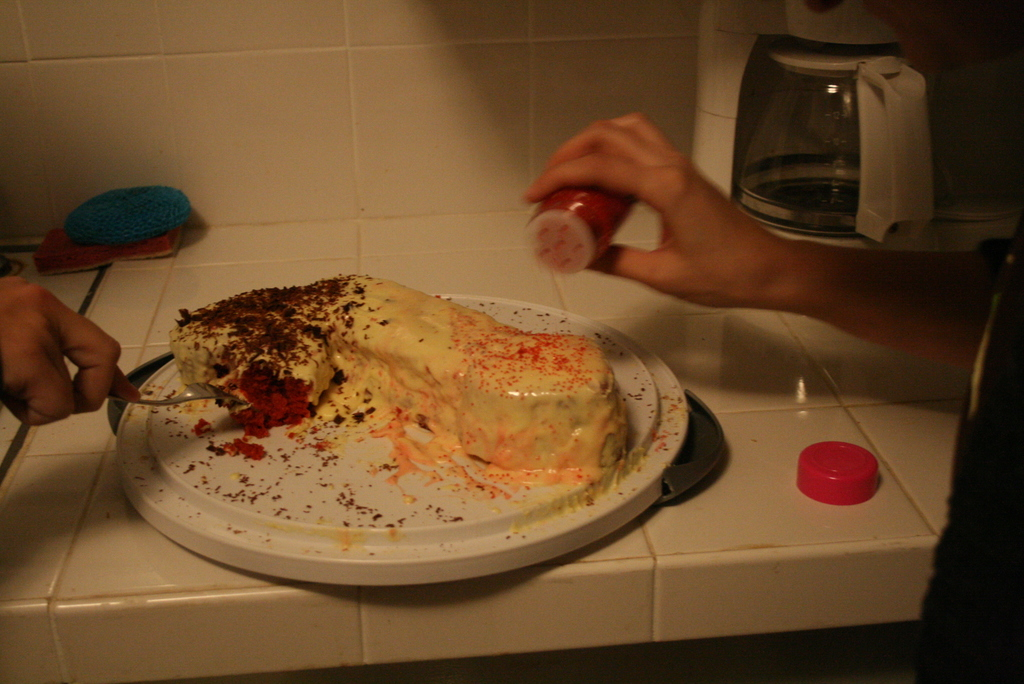cake: (168, 273, 639, 469)
